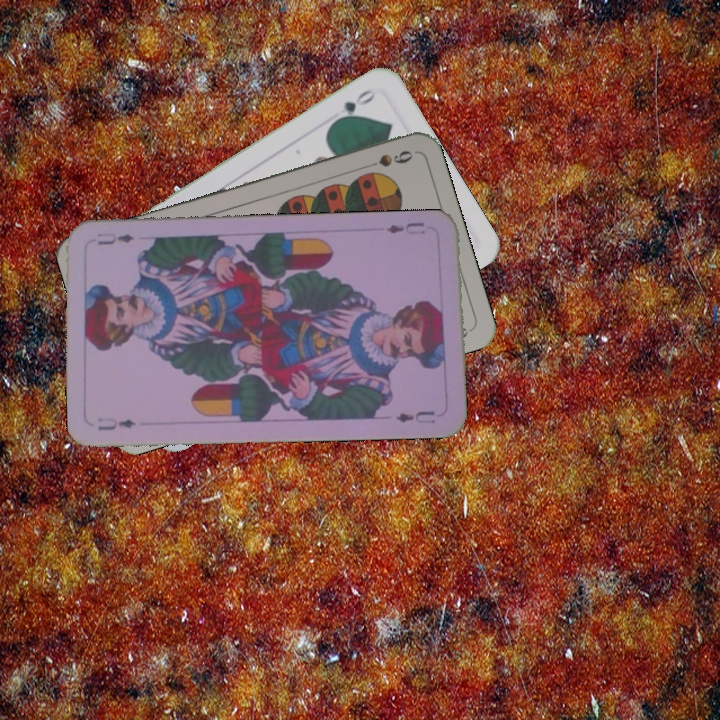EU: (94, 413, 139, 433), (383, 218, 427, 237)
GO: (329, 85, 379, 126)
S9: (358, 146, 415, 172)
